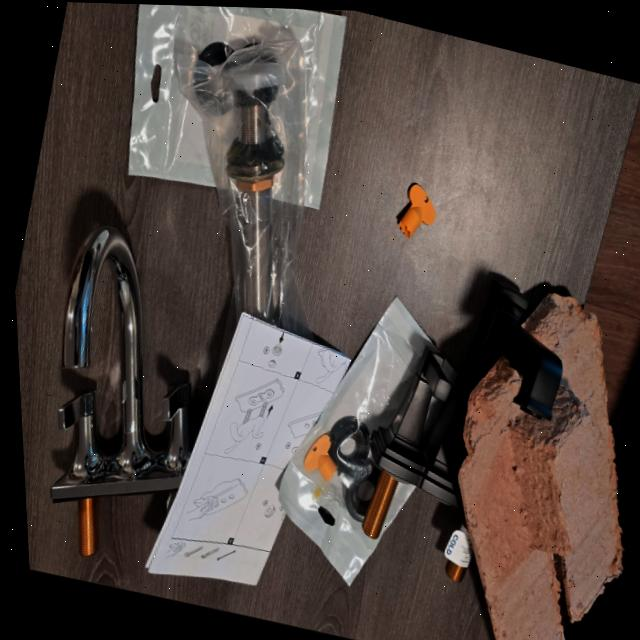10o: (50, 225, 189, 555)
11o: (174, 6, 313, 340)
12o: (278, 297, 439, 584)
13o: (127, 4, 344, 208)
14: (396, 182, 434, 238)
8: (144, 312, 349, 584)
9o: (361, 279, 561, 537), (443, 525, 471, 581)
